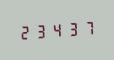four: (48, 20, 62, 39)
seven: (78, 18, 92, 37)
three: (33, 21, 47, 40), (63, 19, 77, 38)
two: (18, 22, 32, 41)
